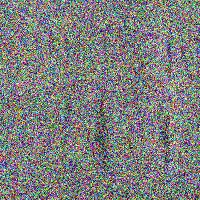inclusion: (85, 89, 116, 184), (41, 57, 76, 134), (150, 94, 176, 181), (153, 24, 179, 84), (41, 23, 59, 61)
